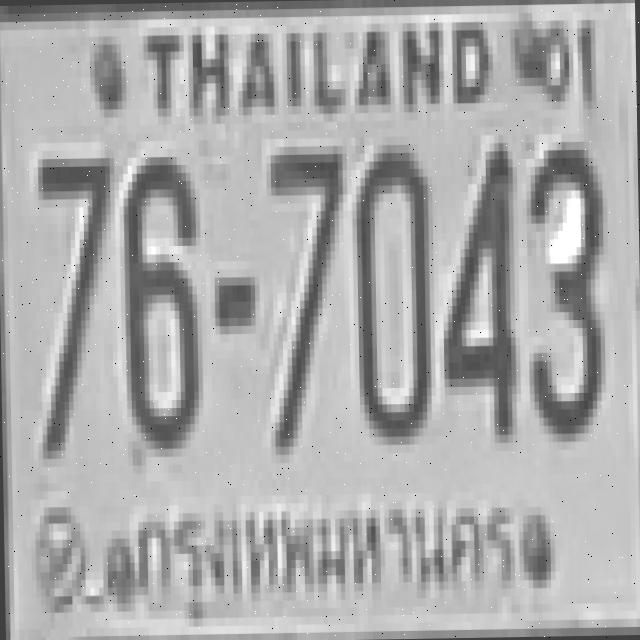0: (351, 136, 432, 437)
3: (525, 132, 602, 434)
4: (436, 134, 512, 436)
6: (118, 148, 199, 441)
7: (33, 150, 114, 450), (266, 138, 342, 446)
Bangkok: (125, 484, 530, 636)
